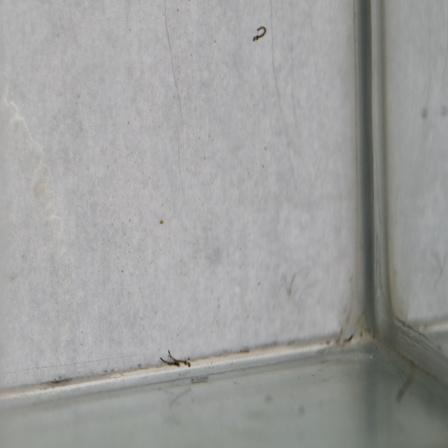Jentik-Nyamuk: (155, 346, 193, 375), (247, 21, 269, 43)
